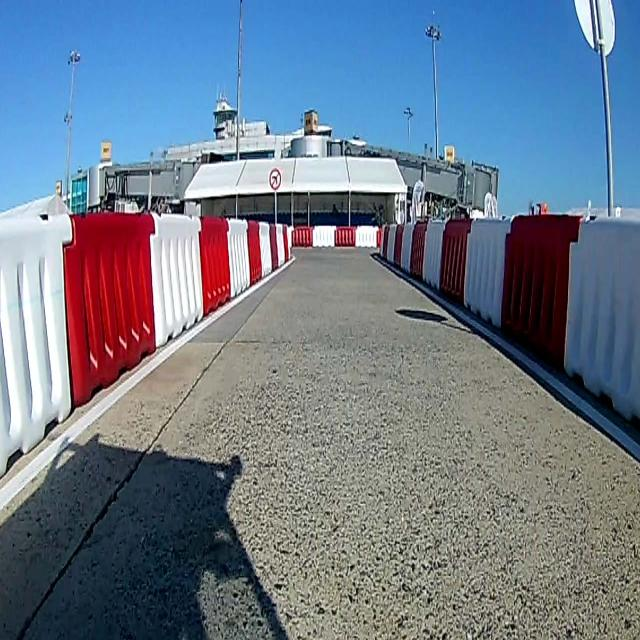soladonulmez: (268, 165, 281, 191)
